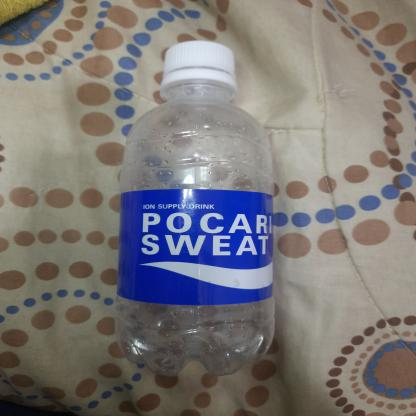bottle: (111, 40, 280, 380)
